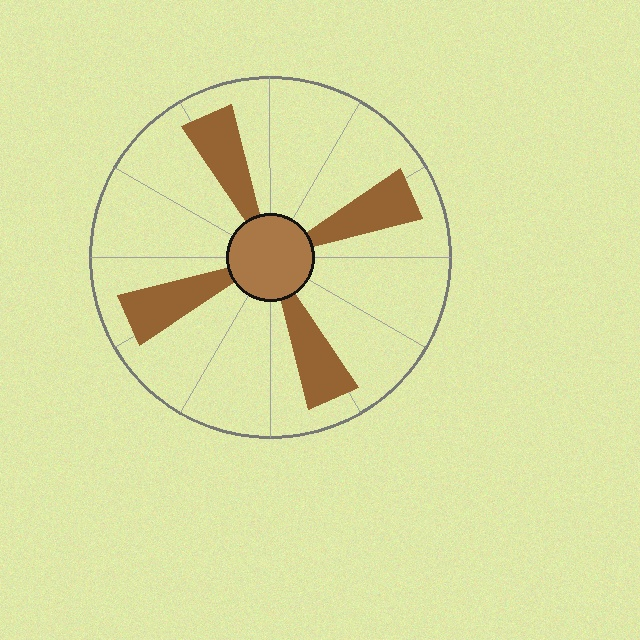fan: (85, 72, 455, 442)
